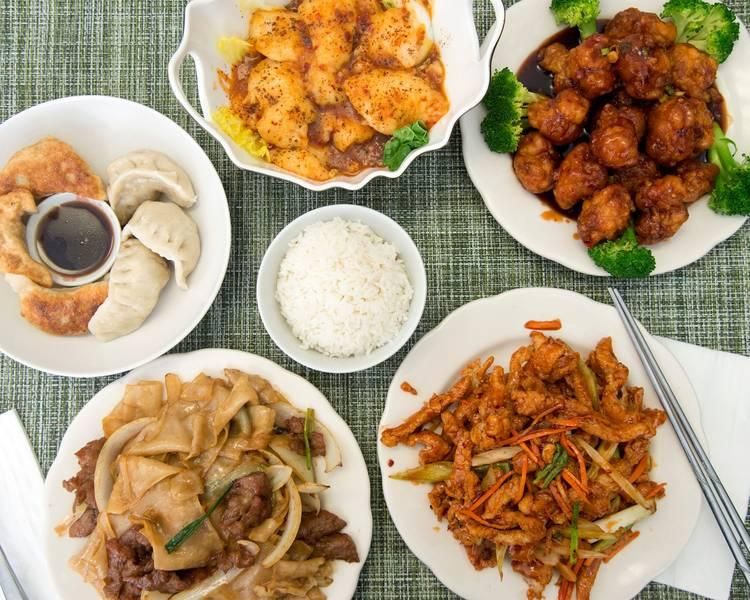Braised Crucian Carp: (376, 286, 701, 593), (37, 349, 369, 595), (461, 2, 746, 276), (2, 94, 231, 371), (167, 3, 484, 191)
